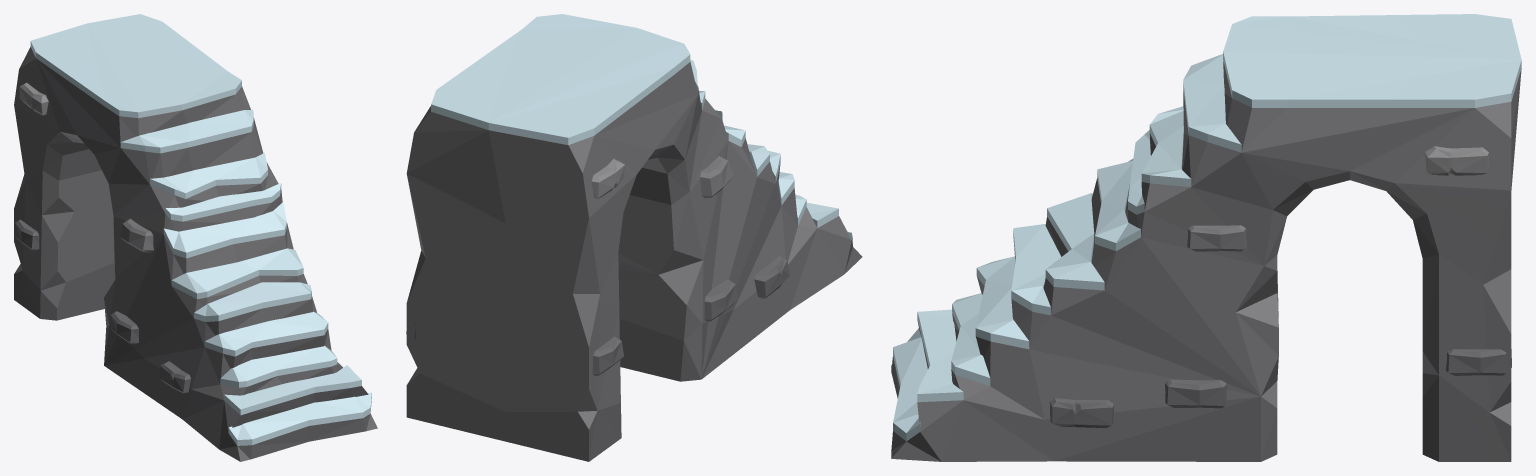
The model's file is SM_Bld_Rockwall_StairArchway_01_Snow.gltf.
3 renders of one model, left to right at view 1: azimuth 30°, elevation 25°; view 2: azimuth 150°, elevation 25°; view 3: azimuth 270°, elevation 25°, orthographic. The views are drawn at different scales.
Parts seen in each view (by area): view 1: SM_Bld_Rockwall_StairArchway_01_Snow; view 2: SM_Bld_Rockwall_StairArchway_01_Snow; view 3: SM_Bld_Rockwall_StairArchway_01_Snow.
Boxes of the visible parts, x1,y1,x2,y2 form: SM_Bld_Rockwall_StairArchway_01_Snow: (14, 14, 377, 461); SM_Bld_Rockwall_StairArchway_01_Snow: (406, 14, 862, 461); SM_Bld_Rockwall_StairArchway_01_Snow: (891, 14, 1521, 461).
Bounding box in the file's own units: 1.79 × 2.81 × 4.51.
Materials: 1 (1 with a texture image).
